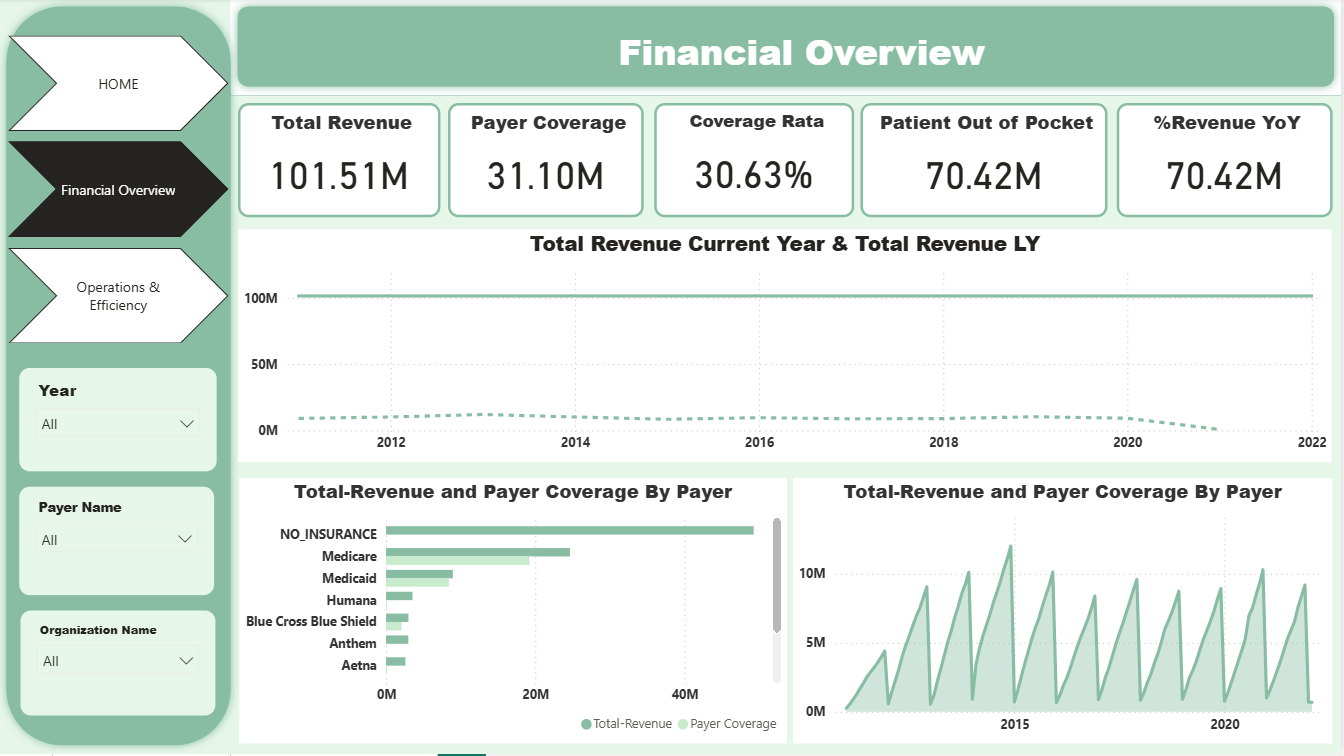

The page's visual inventory and layout, read from the dashboard file:
{"tool":"powerbi","page":{"name":" Financial Overview","canvas":[1280,720],"ordinal":1},"visuals":[{"type":"group","id":"g1","title":"Group 2","box":[0,0,229.5,719.8],"z":0,"group":"g3"},{"type":"shape","box":[0,0,229.5,719.8],"z":0,"group":"g1"},{"type":"shape","box":[219.8,0,1060.2,92.4],"z":0,"group":"g2"},{"type":"card","title":"Total Revenue","fields":{"Values":["encounters.Total-Revenue"]},"box":[228.6,100.2,192.6,108.9],"z":0},{"type":"textbox","title":"Financial Overview","box":[421,27.2,687.5,45.3],"z":1000,"group":"g2"},{"type":"pageNavigator","box":[9.7,36,210.1,294.7],"z":1000,"group":"g1"},{"type":"card","title":"Coverage Rata","fields":{"Values":["encounters.Coverage Rate"]},"box":[624.4,100.2,190.6,108.9],"z":1000},{"type":"slicer","fields":{"Values":["organizations.NAME"]},"box":[21.4,583.6,185.8,100.2],"z":1000,"group":"g3"},{"type":"card","title":"Payer Coverage","fields":{"Values":["encounters.Payer Coverage"]},"box":[428.9,100.2,186.7,108.9],"z":2000},{"type":"slicer","fields":{"Values":["Calender.Year"]},"box":[20.4,352.1,187.7,98.2],"z":2000,"group":"g1"},{"type":"slicer","fields":{"Values":["payers.NAME"]},"box":[20.4,464.9,185.8,103.1],"z":2000,"group":"g3"},{"type":"card","title":" Patient Out of Pocket","fields":{"Values":["Calender.Patient Out of Pocket"]},"box":[821.9,100.2,235.4,108.9],"z":3000},{"type":"group","id":"g2","title":"Group 1","box":[219.8,0,1060.2,92.4],"z":4000},{"type":"lineChart","title":"Total Revenue Current Year & Total Revenue LY ","fields":{"Y":["Calender.Total Revenue Current Year","Calender.Total Revenue LY"],"Category":["Calender.Date.Variation.Date Hierarchy.Year"]},"box":[228.6,219.8,1041.7,221.8],"z":5000},{"type":"clusteredBarChart","title":"Total-Revenue and Payer Coverage By Payer","fields":{"Category":["payers.NAME"],"Y":["encounters.Total-Revenue","encounters.Payer Coverage"]},"box":[229.5,457.1,521.3,252.9],"z":6000},{"type":"areaChart","title":"Total-Revenue and Payer Coverage By Payer","fields":{"Category":["Calender.Date.Variation.Date Hierarchy.Year","Calender.Date.Variation.Date Hierarchy.Month"],"Y":["Calender.Total Revenue YTD"]},"box":[756.7,457.1,513.6,252.9],"z":7000},{"type":"card","title":"%Revenue YoY","fields":{"Values":["Calender.Patient Out of Pocket"]},"box":[1065,100.2,205.2,108.9],"z":8000},{"type":"group","id":"g3","title":"Group 4","box":[0,0,229.5,719.8],"z":9001}]}

Visuals, with their boxes in screenshot pixels (x1, y1, x2, y2), scaled from the page's 1280x720 canvas onto the 1344x756 screenshot:
"Group 2" group: (x1=0, y1=0, x2=241, y2=755)
shape: (x1=0, y1=0, x2=241, y2=755)
shape: (x1=231, y1=0, x2=1343, y2=97)
"Total Revenue" card: (x1=240, y1=105, x2=442, y2=220)
"Financial Overview" textbox: (x1=442, y1=29, x2=1164, y2=76)
pageNavigator: (x1=10, y1=38, x2=231, y2=347)
"Coverage Rata" card: (x1=656, y1=105, x2=856, y2=220)
slicer - organizations.NAME: (x1=22, y1=613, x2=218, y2=718)
"Payer Coverage" card: (x1=450, y1=105, x2=646, y2=220)
slicer - Calender.Year: (x1=21, y1=370, x2=219, y2=473)
slicer - payers.NAME: (x1=21, y1=488, x2=217, y2=596)
" Patient Out of Pocket" card: (x1=863, y1=105, x2=1110, y2=220)
"Group 1" group: (x1=231, y1=0, x2=1343, y2=97)
"Total Revenue Current Year & Total Revenue LY " lineChart: (x1=240, y1=231, x2=1334, y2=464)
"Total-Revenue and Payer Coverage By Payer" clusteredBarChart: (x1=241, y1=480, x2=788, y2=746)
"Total-Revenue and Payer Coverage By Payer" areaChart: (x1=795, y1=480, x2=1334, y2=746)
"%Revenue YoY" card: (x1=1118, y1=105, x2=1334, y2=220)
"Group 4" group: (x1=0, y1=0, x2=241, y2=755)
